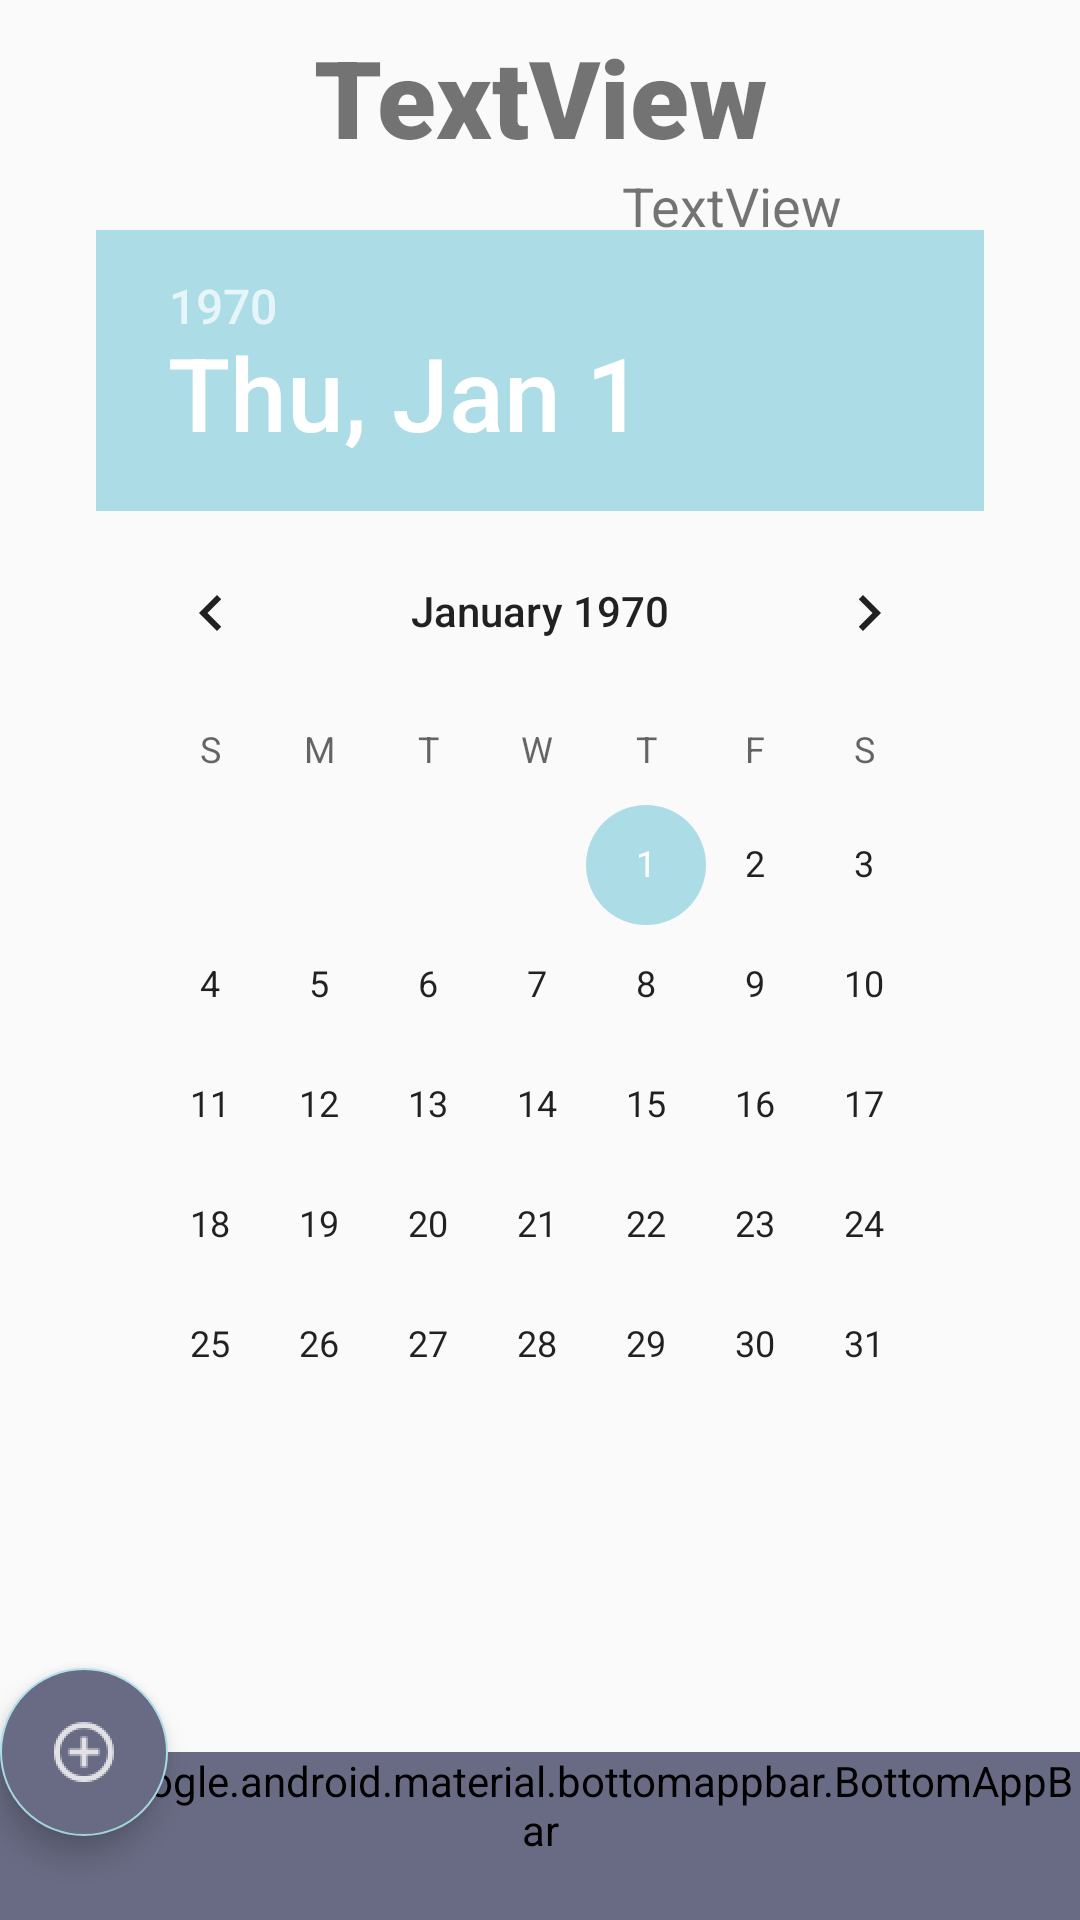

Screen size 1080 x 1920. Icon name, then its center in pixels as (x,y):
add: (84,1752)
